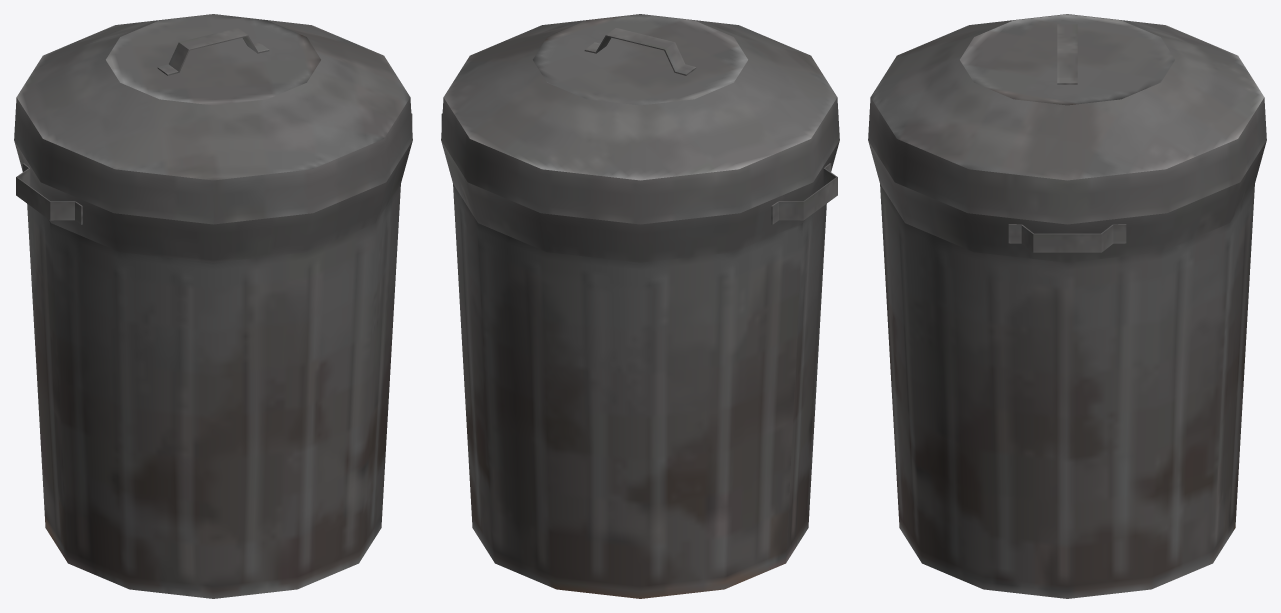
Rendered from TrashCan.fbx.
3 views of the same model, side by side, from view 1: azimuth 30°, elevation 25°; view 2: azimuth 150°, elevation 25°; view 3: azimuth 270°, elevation 25° (orthographic).
Parts seen in each view (by area): view 1: SM_Trash_Can; view 2: SM_Trash_Can; view 3: SM_Trash_Can.
Part boxes in pixels (left/top/right/bottom): SM_Trash_Can: left=14, top=14, right=412, bottom=598; SM_Trash_Can: left=441, top=14, right=839, bottom=598; SM_Trash_Can: left=868, top=14, right=1266, bottom=598.
Size of the model in its own units: 0.6711 by 0.8668 by 0.6404.
